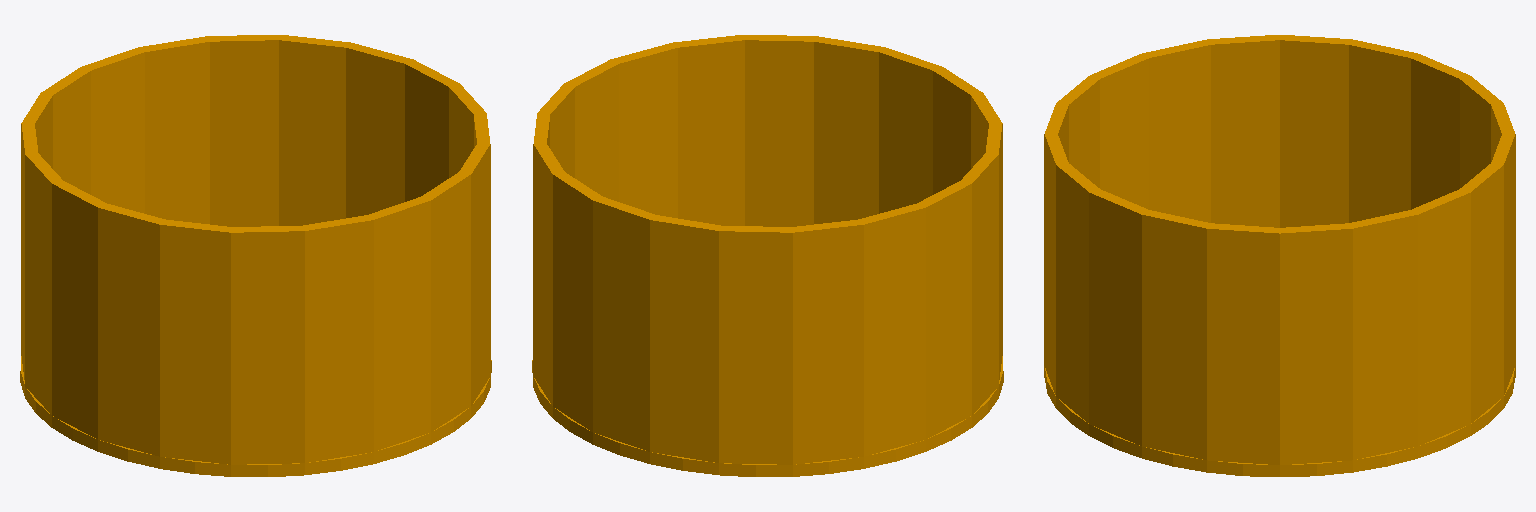
The robot description file, URDF, robot "scoop_source_True_3":
<?xml version='1.0' encoding='utf-8'?>
<robot name="scoop_source_True_3">
  <link name="body">
    <inertial>
      <origin xyz="-5.9631119486702744e-18 -1.8295911660692887e-17 0.05805476390035787" />
      <mass value="0.4" />
      <inertia ixx="0.004175935371460159" iyy="0.004175935371460158" izz="0.006187781720002621" ixy="3.959879028413854e-20" ixz="2.7392130468201156e-20" iyz="4.0554751989573214e-19" />
    </inertial>
    <collision>
      <geometry>
        <mesh filename="part_00.obj" />
      </geometry>
    </collision>
    <collision>
      <geometry>
        <mesh filename="part_01.obj" />
      </geometry>
    </collision>
    <collision>
      <geometry>
        <mesh filename="part_02.obj" />
      </geometry>
    </collision>
    <collision>
      <geometry>
        <mesh filename="part_03.obj" />
      </geometry>
    </collision>
    <collision>
      <geometry>
        <mesh filename="part_04.obj" />
      </geometry>
    </collision>
    <collision>
      <geometry>
        <mesh filename="part_05.obj" />
      </geometry>
    </collision>
    <collision>
      <geometry>
        <mesh filename="part_06.obj" />
      </geometry>
    </collision>
    <collision>
      <geometry>
        <mesh filename="part_07.obj" />
      </geometry>
    </collision>
    <collision>
      <geometry>
        <mesh filename="part_08.obj" />
      </geometry>
    </collision>
    <collision>
      <geometry>
        <mesh filename="part_09.obj" />
      </geometry>
    </collision>
    <collision>
      <geometry>
        <mesh filename="part_10.obj" />
      </geometry>
    </collision>
    <collision>
      <geometry>
        <mesh filename="part_11.obj" />
      </geometry>
    </collision>
    <collision>
      <geometry>
        <mesh filename="part_12.obj" />
      </geometry>
    </collision>
    <collision>
      <geometry>
        <mesh filename="part_13.obj" />
      </geometry>
    </collision>
    <collision>
      <geometry>
        <mesh filename="part_14.obj" />
      </geometry>
    </collision>
    <collision>
      <geometry>
        <mesh filename="part_15.obj" />
      </geometry>
    </collision>
    <collision>
      <geometry>
        <mesh filename="part_16.obj" />
      </geometry>
    </collision>
    <collision>
      <geometry>
        <mesh filename="part_17.obj" />
      </geometry>
    </collision>
    <collision>
      <geometry>
        <mesh filename="part_18.obj" />
      </geometry>
    </collision>
    <collision>
      <geometry>
        <mesh filename="part_19.obj" />
      </geometry>
    </collision>
    <collision>
      <geometry>
        <mesh filename="part_20.obj" />
      </geometry>
    </collision>
    <visual>
      <geometry>
        <mesh filename="visual.obj" />
      </geometry>
    </visual>
  </link>
</robot>

--- What the picture shows (computed from the rendered views, not written in the file) ---
3 views of the same robot in one strip: view 1: azimuth 30°, elevation 25°; view 2: azimuth 150°, elevation 25°; view 3: azimuth 270°, elevation 25° (orthographic).
Robot: scoop_source_True_3 — 1 links, 0 joints (none); root link body; default pose: every joint at zero.
Links seen in each view (by area): view 1: body; view 2: body; view 3: body.
Link boxes in pixels (x1,y1,x2,y2): body: [20, 35, 491, 476]; body: [532, 35, 1003, 476]; body: [1044, 35, 1515, 476].
Bounding box of the posed robot: 0.28 × 0.28 × 0.16 m (x, y, z).
1 mesh visuals loaded from 1 distinct referenced files (1 OBJ).
